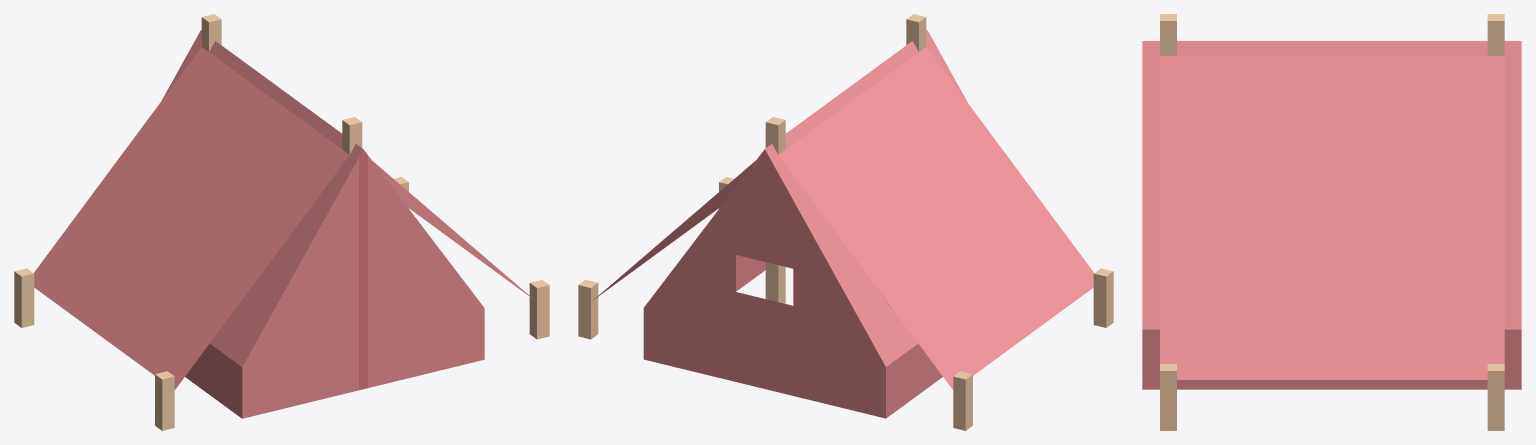
The model's file is tent_detailedClosed.glb.
3 views of the same model, side by side, from view 1: azimuth 30°, elevation 25°; view 2: azimuth 150°, elevation 25°; view 3: azimuth 270°, elevation 25° (orthographic). The views are drawn at different scales.
Parts seen in each view (by area): view 1: tent_detailedClosed; view 2: tent_detailedClosed; view 3: tent_detailedClosed.
Boxes of the visible parts, left/top/right/bottom form: tent_detailedClosed: left=14, top=14, right=549, bottom=430; tent_detailedClosed: left=578, top=14, right=1113, bottom=430; tent_detailedClosed: left=1142, top=14, right=1521, bottom=430.
Bounding box in the file's own units: 0.8749 × 0.5611 × 0.6364.
